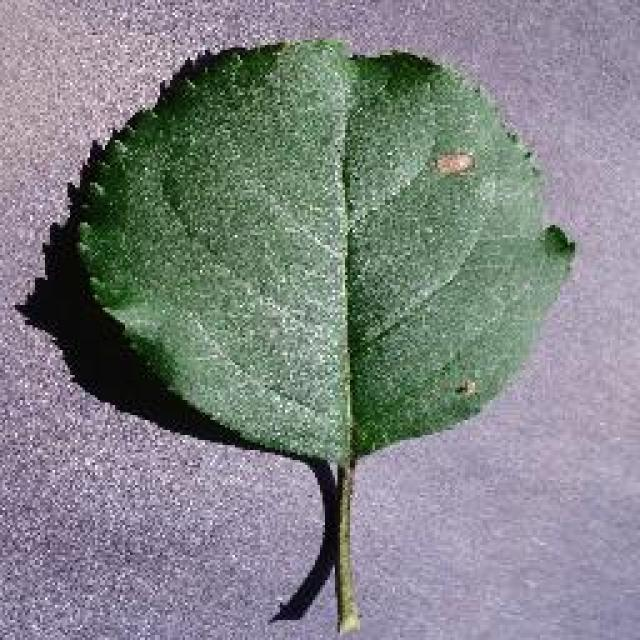Black_rot: (67, 35, 575, 635)
